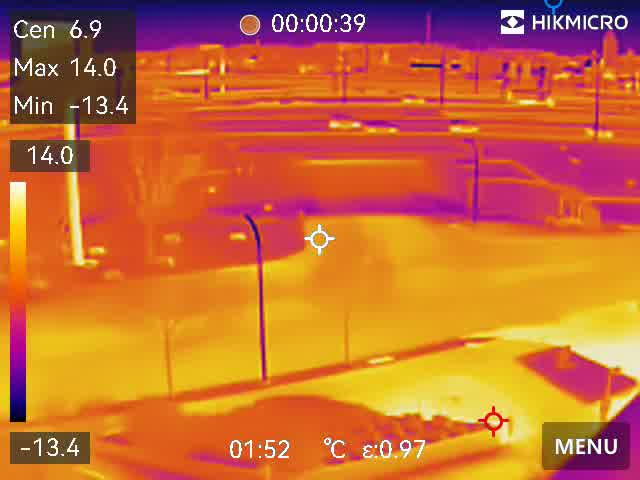vehicle: (507, 89, 558, 108), (444, 120, 486, 137), (364, 120, 401, 137), (324, 115, 361, 130), (586, 126, 612, 141), (400, 95, 425, 109)
